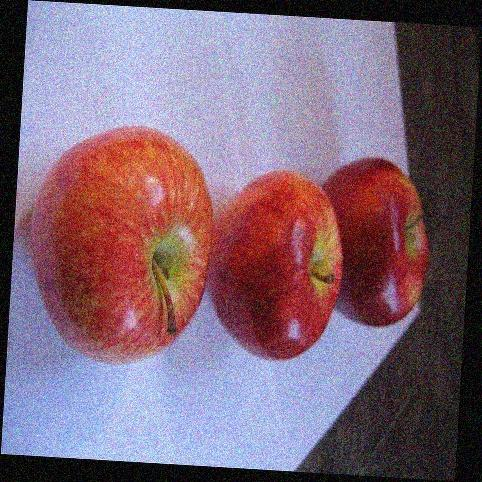red apple: (27, 125, 213, 365), (207, 162, 344, 359), (316, 153, 435, 330)
